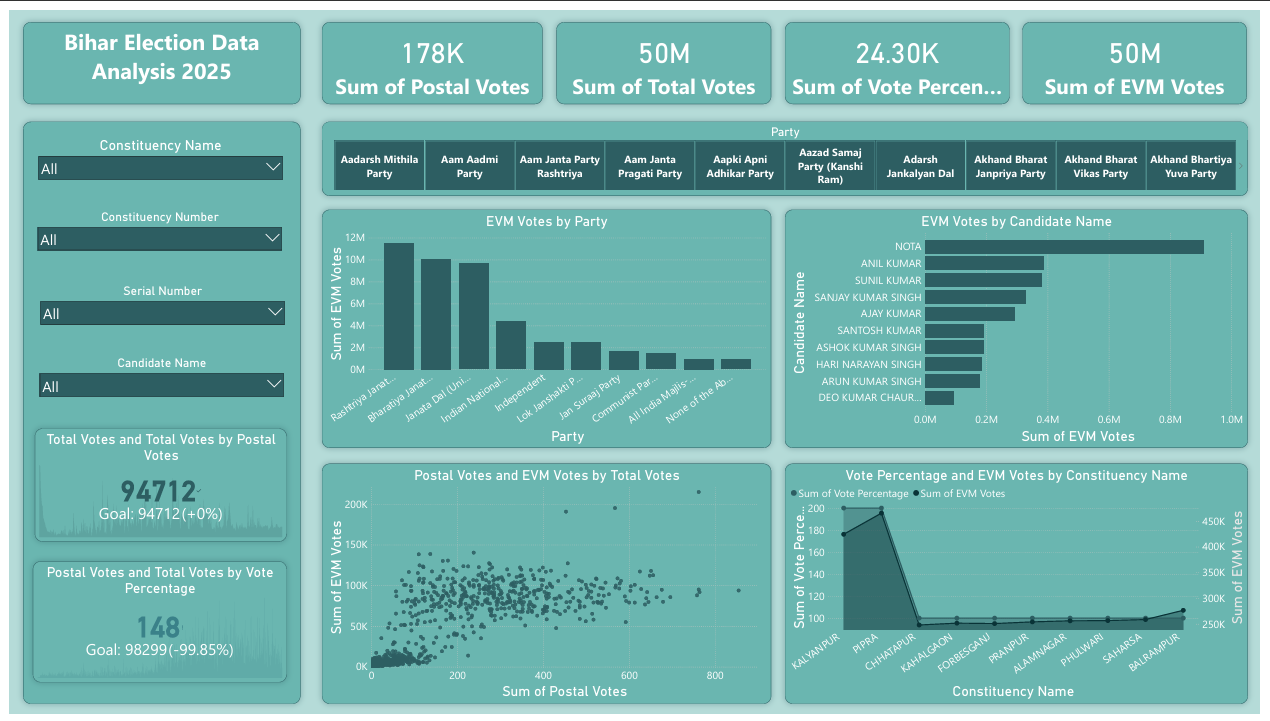

This screenshot's page, from the dashboard's own definition file:
{"tool":"powerbi","page":{"name":"Page 1","canvas":[3200,1800],"ordinal":0},"visuals":[{"type":"slicer","title":"Party","fields":{"Values":["bihar_election_results.Party"]},"box":[800,285,2370,190],"z":0},{"type":"textbox","box":[35,30,710,210],"z":1000},{"type":"textbox","box":[35,285,710,1490],"z":2000},{"type":"slicer","title":"Candidate Name","fields":{"Values":["bihar_election_results.Candidate Name"]},"box":[67.5,885,645,145],"z":3000},{"type":"slicer","title":"Serial Number","fields":{"Values":["bihar_election_results.Serial Number"]},"box":[70,700,645,150],"z":4000},{"type":"slicer","title":"Constituency Number","fields":{"Values":["bihar_election_results.Constituency Number"]},"box":[62.5,510,645,150],"z":5000},{"type":"slicer","title":"Constituency Name","fields":{"Values":["bihar_election_results.Constituency Name"]},"box":[65,322.5,645,152.5],"z":6000},{"type":"card","fields":{"Values":["bihar_election_results.Postal Votes"]},"box":[800,30,565,210],"z":7000},{"type":"card","fields":{"Values":["bihar_election_results.Total Votes"]},"box":[1400,30,550,210],"z":8000},{"type":"card","fields":{"Values":["bihar_election_results.Vote Percentage"]},"box":[1985,30,575,210],"z":9000},{"type":"card","fields":{"Values":["bihar_election_results.EVM Votes"]},"box":[2593.3,30,573.3,210],"z":10000},{"type":"kpi","title":"Total Votes and Total Votes by Postal Votes","fields":{"Goal":["bihar_election_results.Total Votes"],"Indicator":["bihar_election_results.Total Votes"],"TrendLine":["bihar_election_results.Postal Votes"]},"box":[65,1070,645,290],"z":11000},{"type":"kpi","title":"Postal Votes and Total Votes by Vote Percentage","fields":{"TrendLine":["bihar_election_results.Vote Percentage"],"Goal":["bihar_election_results.Total Votes"],"Indicator":["bihar_election_results.Postal Votes"]},"box":[60,1410,650,310],"z":12000},{"type":"lineStackedColumnComboChart","title":"EVM Votes by Party","fields":{"Category":["bihar_election_results.Party"],"Y":["bihar_election_results.EVM Votes"]},"box":[800,510,1150,610],"z":13000},{"type":"scatterChart","title":"Postal Votes and EVM Votes by Total Votes","fields":{"Category":["bihar_election_results.Total Votes"],"X":["bihar_election_results.Postal Votes"],"Y":["bihar_election_results.EVM Votes"]},"box":[800,1160,1150,615],"z":14000},{"type":"barChart","title":"EVM Votes by Candidate Name","fields":{"Category":["bihar_election_results.Candidate Name"],"Y":["bihar_election_results.EVM Votes"]},"box":[1985,510,1185,610],"z":15000},{"type":"areaChart","title":"Vote Percentage and EVM Votes by Constituency Name","fields":{"Category":["bihar_election_results.Constituency Name"],"Y":["bihar_election_results.Vote Percentage"],"Y2":["bihar_election_results.EVM Votes"]},"box":[1985,1160,1185,615],"z":16000}]}

Visuals, with their boxes in screenshot pixels (x1, y1, x2, y2), scaled from the page's 3200x1800 canvas onto the 1270x721 screenshot:
"Party" slicer: bbox(318, 114, 1258, 190)
textbox: bbox(14, 12, 296, 96)
textbox: bbox(14, 114, 296, 711)
"Candidate Name" slicer: bbox(27, 354, 283, 413)
"Serial Number" slicer: bbox(28, 280, 284, 340)
"Constituency Number" slicer: bbox(25, 204, 281, 264)
"Constituency Name" slicer: bbox(26, 129, 282, 190)
card - bihar_election_results.Postal Votes: bbox(318, 12, 542, 96)
card - bihar_election_results.Total Votes: bbox(556, 12, 774, 96)
card - bihar_election_results.Vote Percentage: bbox(788, 12, 1016, 96)
card - bihar_election_results.EVM Votes: bbox(1029, 12, 1257, 96)
"Total Votes and Total Votes by Postal Votes" kpi: bbox(26, 429, 282, 545)
"Postal Votes and Total Votes by Vote Percentage" kpi: bbox(24, 565, 282, 689)
"EVM Votes by Party" lineStackedColumnComboChart: bbox(318, 204, 774, 449)
"Postal Votes and EVM Votes by Total Votes" scatterChart: bbox(318, 465, 774, 711)
"EVM Votes by Candidate Name" barChart: bbox(788, 204, 1258, 449)
"Vote Percentage and EVM Votes by Constituency Name" areaChart: bbox(788, 465, 1258, 711)
